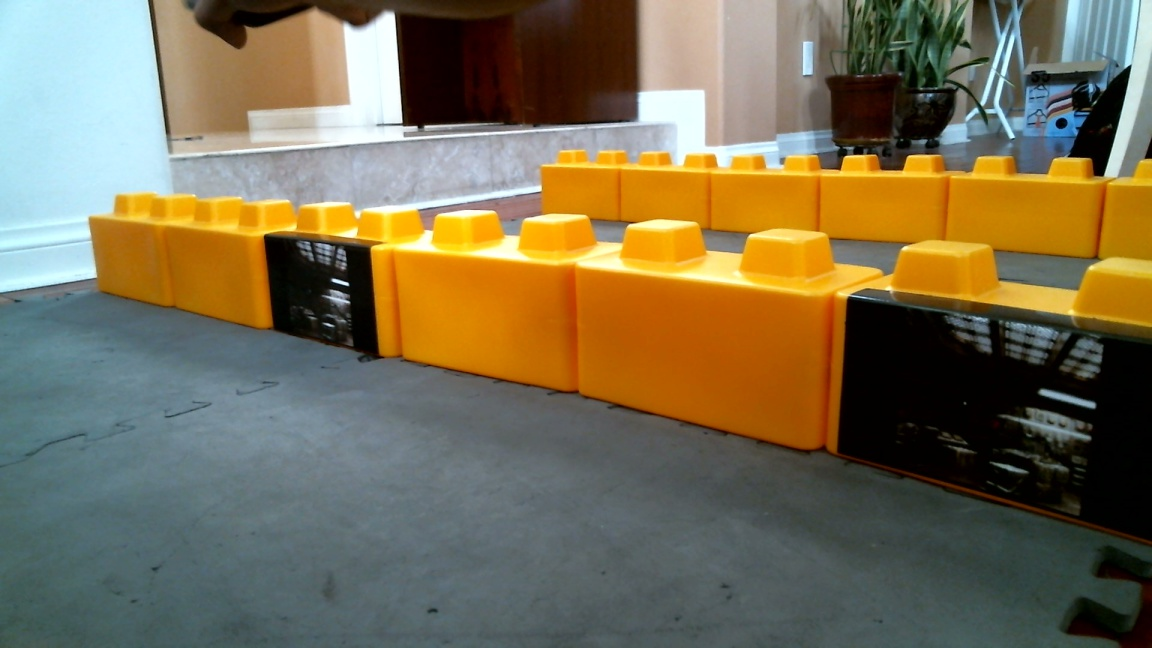skystone: (835, 239, 1148, 545), (263, 197, 396, 358)
stone: (566, 207, 826, 453), (398, 198, 573, 398), (163, 180, 269, 325), (92, 177, 163, 308)
